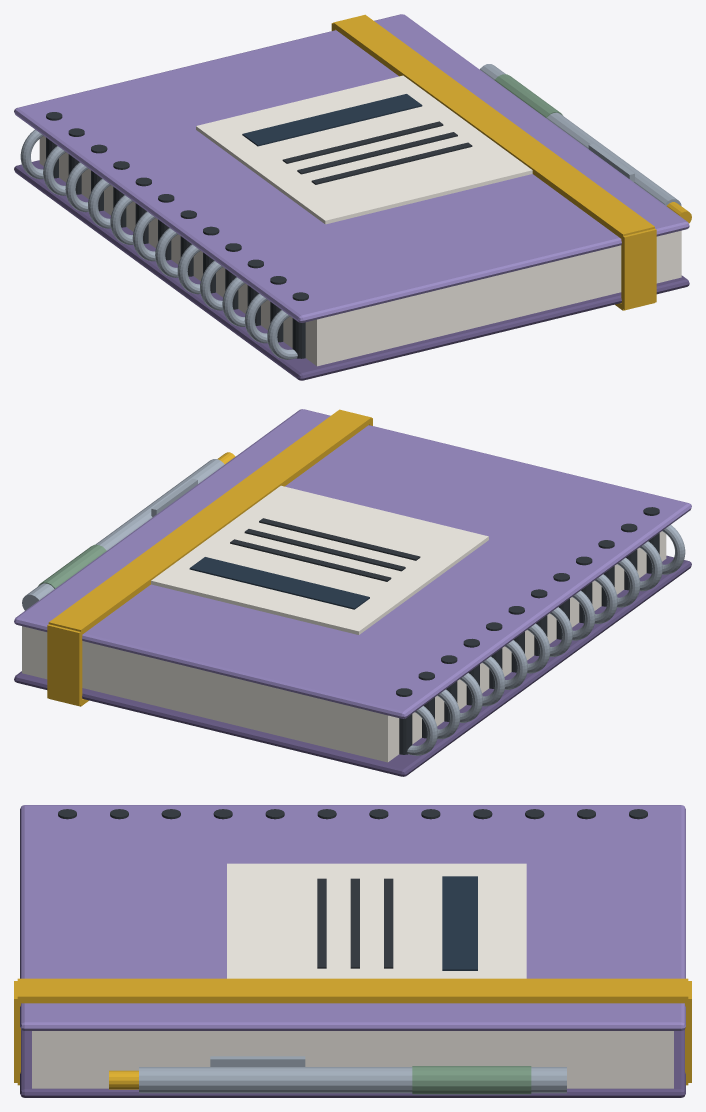
The model's file is Collectible_Notebook.glb.
3 renders of one model, top to bottom at view 1: azimuth 30°, elevation 25°; view 2: azimuth 150°, elevation 25°; view 3: azimuth 270°, elevation 25°, orthographic. The views are drawn at different scales.
Parts seen in each view (by area): view 1: Collectible_Notebook; view 2: Collectible_Notebook; view 3: Collectible_Notebook.
Boxes of the visible parts, <box> form: Collectible_Notebook: <box>14,14,691,380</box>; Collectible_Notebook: <box>14,409,691,776</box>; Collectible_Notebook: <box>14,805,691,1097</box>.
Bounding box in the file's own units: 0.2505 × 0.041 × 0.285.
